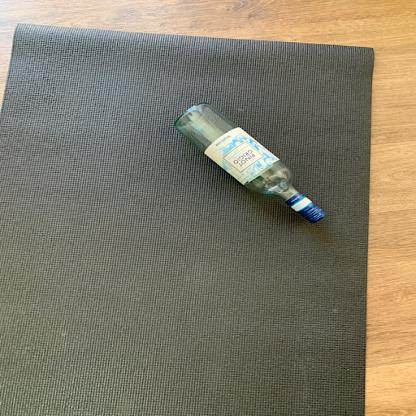trash: (169, 101, 330, 225)
